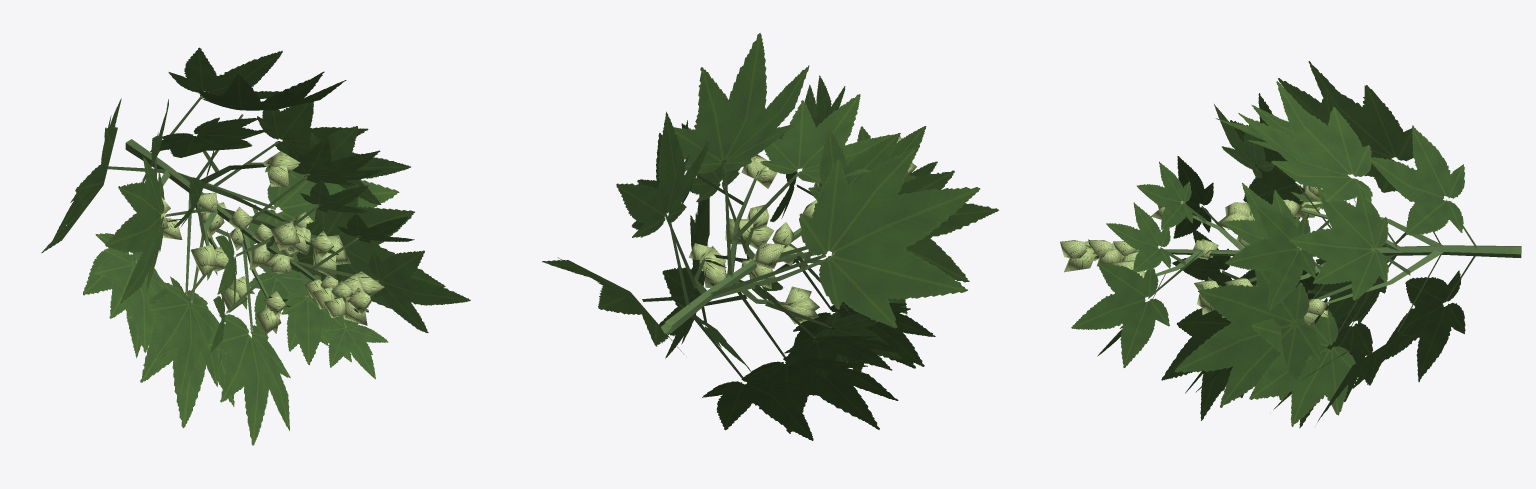
The model's file is p_male_kush_flowering_c0_cards.obj.
3 renders of one model, left to right at view 1: azimuth 30°, elevation 25°; view 2: azimuth 150°, elevation 25°; view 3: azimuth 270°, elevation 25°, orthographic. The views are drawn at different scales.
Bounding box in the file's own units: 1.63 × 1.4 × 1.4.
Materials: 1 (1 with a texture image).
